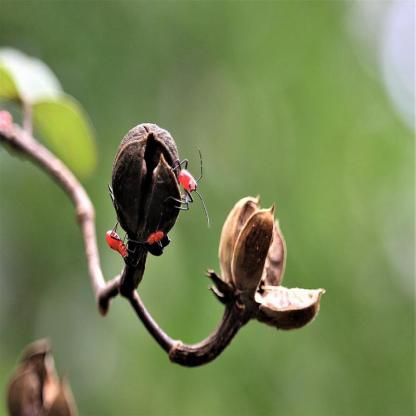aphid: (170, 145, 209, 220), (102, 224, 134, 266), (142, 217, 168, 259)
